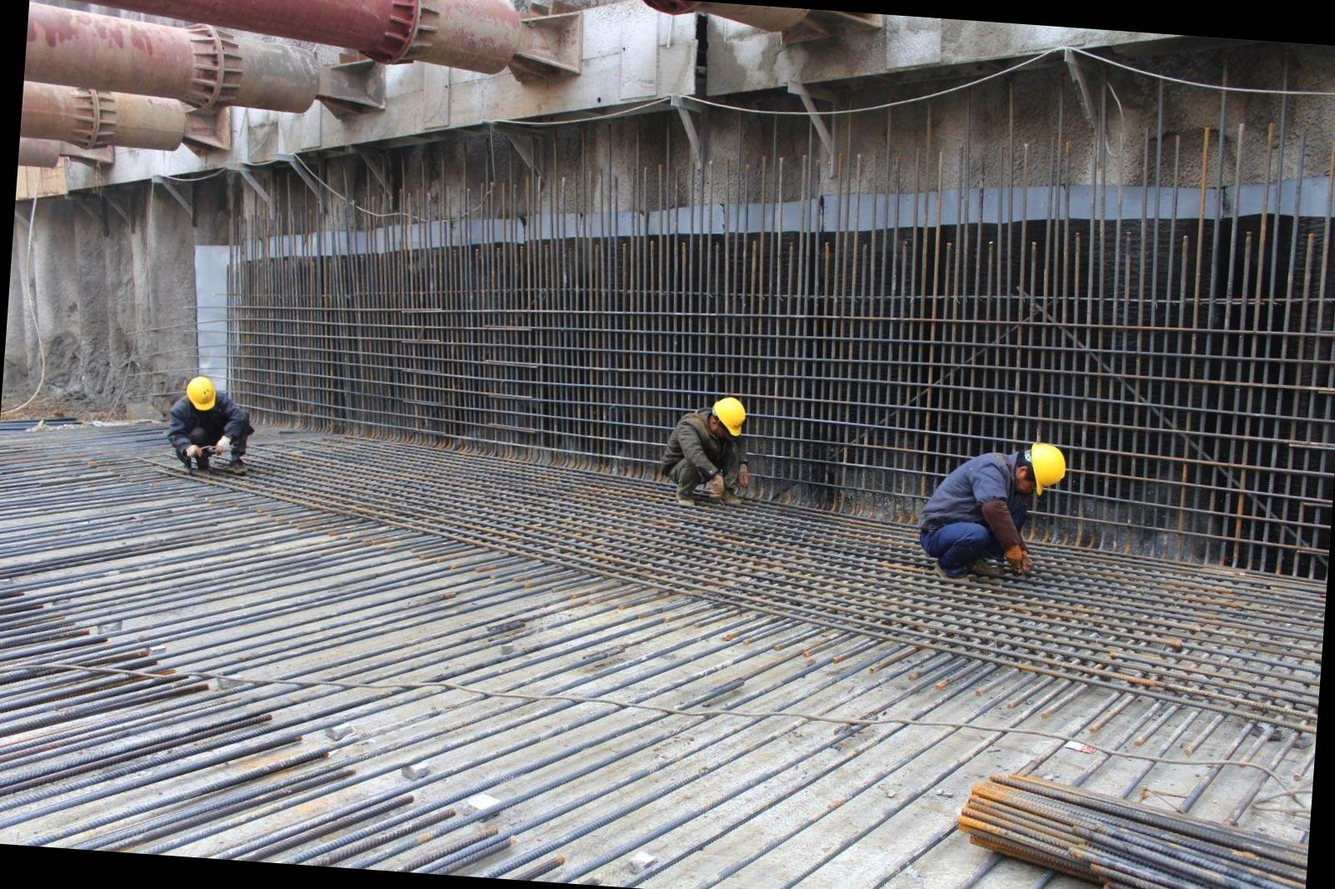helmet: (1025, 434, 1070, 497), (706, 390, 756, 441), (171, 370, 223, 415)
person: (913, 431, 1076, 588), (647, 385, 762, 517), (157, 366, 267, 486)
